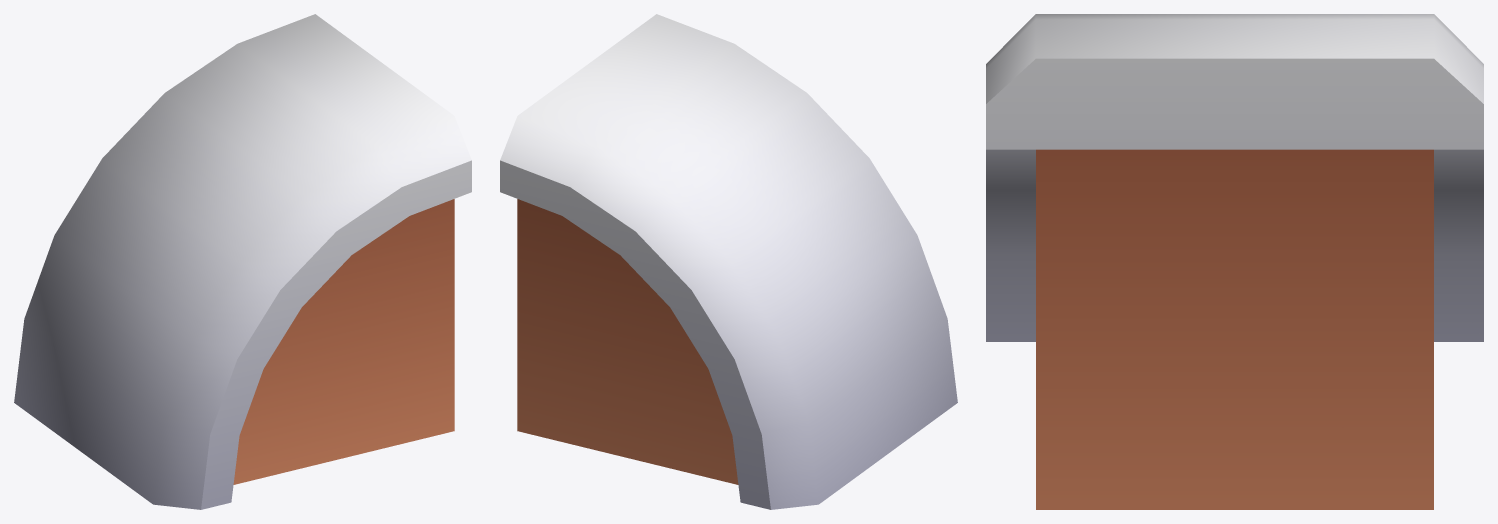
File: block-snow-curve-half.glb
The picture shows the model from 3 angles, left to right: view 1: azimuth 30°, elevation 25°; view 2: azimuth 150°, elevation 25°; view 3: azimuth 270°, elevation 25°; orthographic projection. The views are drawn at different scales.
Parts seen in each view (by area): view 1: block-snow-curve-half; view 2: block-snow-curve-half; view 3: block-snow-curve-half.
Part boxes in pixels (x1,y1,x2,y2): block-snow-curve-half: (14,14,471,509); block-snow-curve-half: (500,14,957,509); block-snow-curve-half: (986,14,1483,509).
Size of the model in its own units: 1 by 1 by 1.
Materials: 1 (1 with a texture image).
